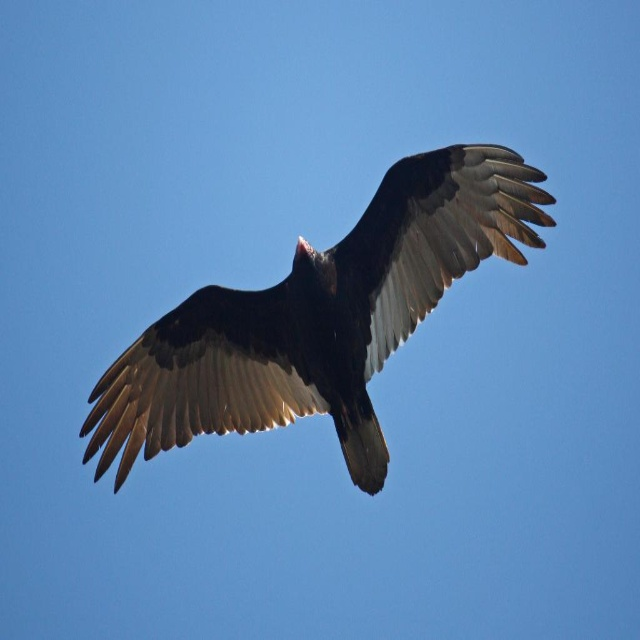Eagle: (76, 140, 561, 500)
